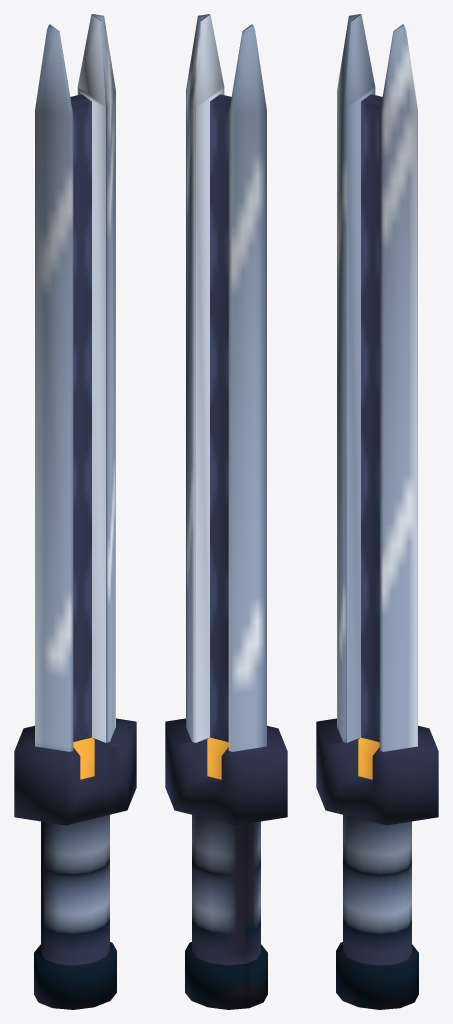
File: bastaoeletrico.fbx
The picture shows the model from 3 angles, left to right: view 1: azimuth 30°, elevation 25°; view 2: azimuth 150°, elevation 25°; view 3: azimuth 330°, elevation 25°; orthographic projection.
Parts seen in each view (by area): view 1: Bastao_Eletrico; view 2: Bastao_Eletrico; view 3: Bastao_Eletrico.
Part boxes in pixels (x1,y1,x2,y2): Bastao_Eletrico: (14, 14, 136, 1009); Bastao_Eletrico: (165, 14, 287, 1009); Bastao_Eletrico: (316, 14, 438, 1009).
Size of the model in its own units: 11.97 by 90.65 by 7.22.
